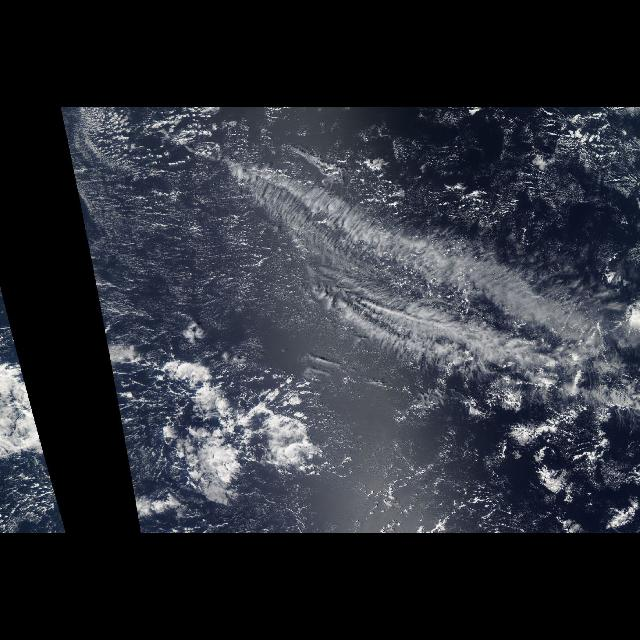Fish: (338, 210, 628, 396)
Gravel: (114, 366, 218, 528)
Sugar: (61, 109, 640, 361)
